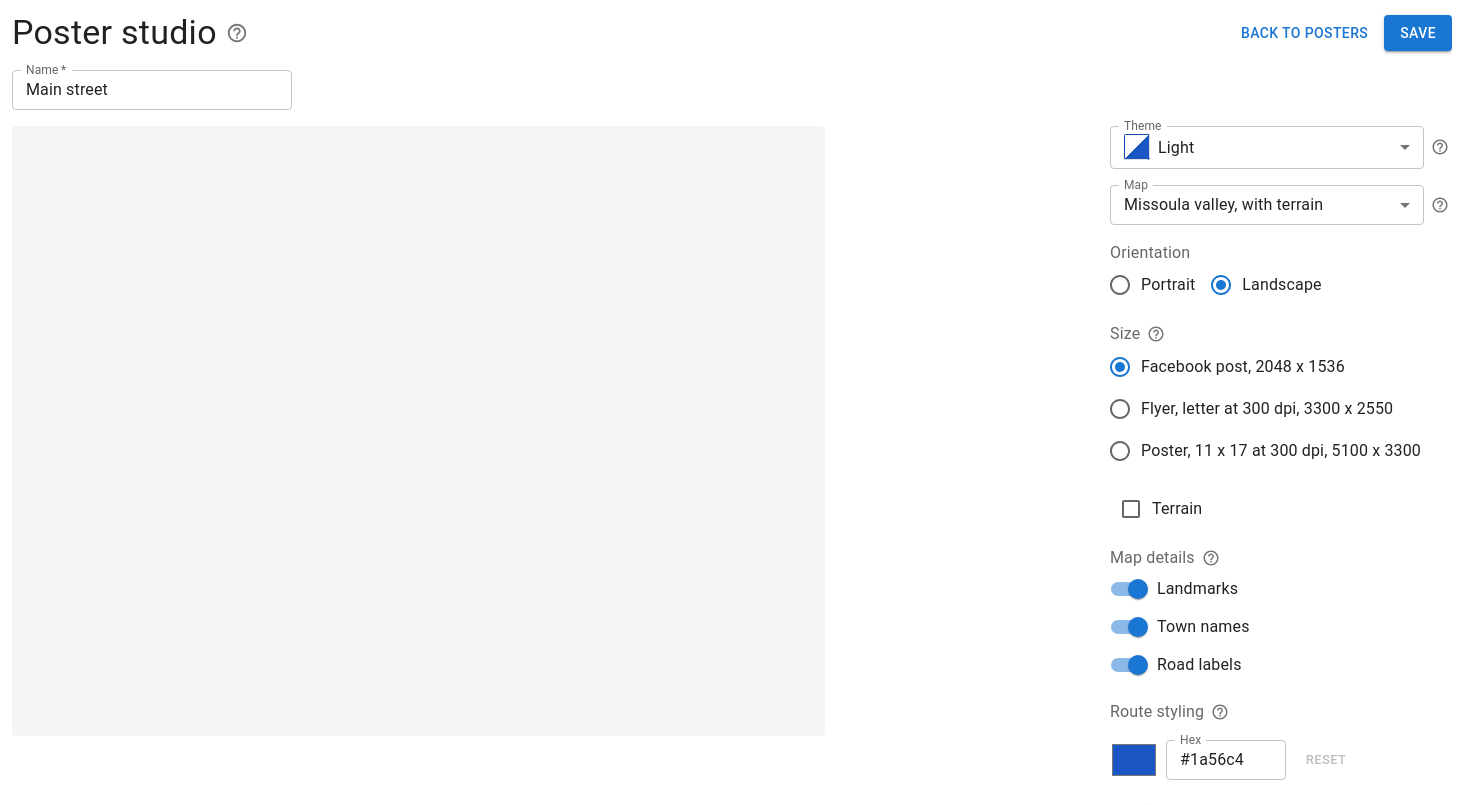
Test: PosterEditor: the Theme and Map selects › offers the MapLibre themes in order and the ready maps, defaulting to the light default and the event's map
Expected: the dropdown named "Map" reads "Missoula valley, with terrain", x1=1124 y1=196 x2=1323 y2=214
Step 1. Click the dropdown named "Theme" → (1159, 148), box x1=1124 y1=134 x2=1194 y2=160
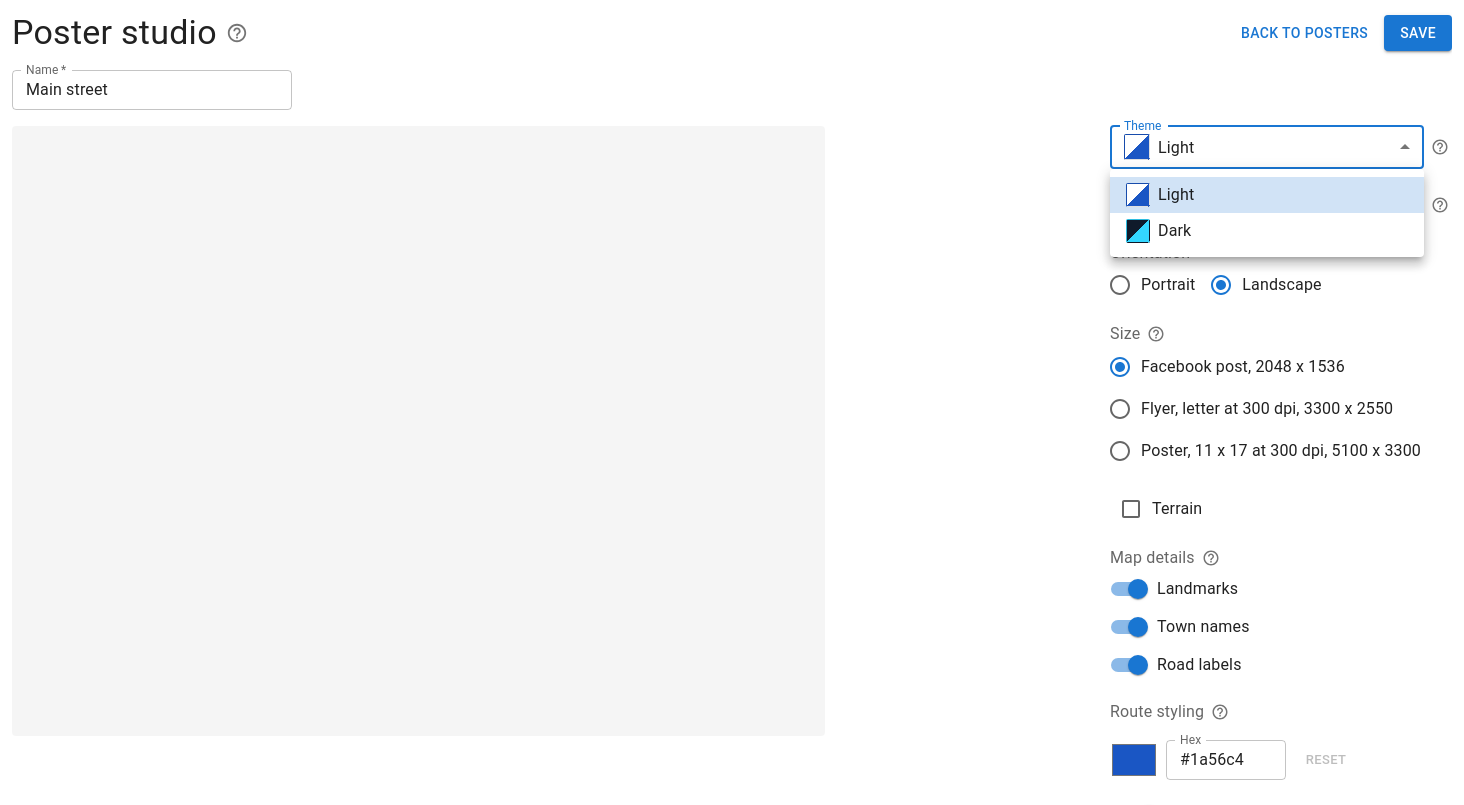
Now the options read "Light", "Dark", in this order, box x1=1110 y1=177 x2=1424 y2=213; x1=1126 y1=219 x2=1191 y2=243
Step 2. Press Escape
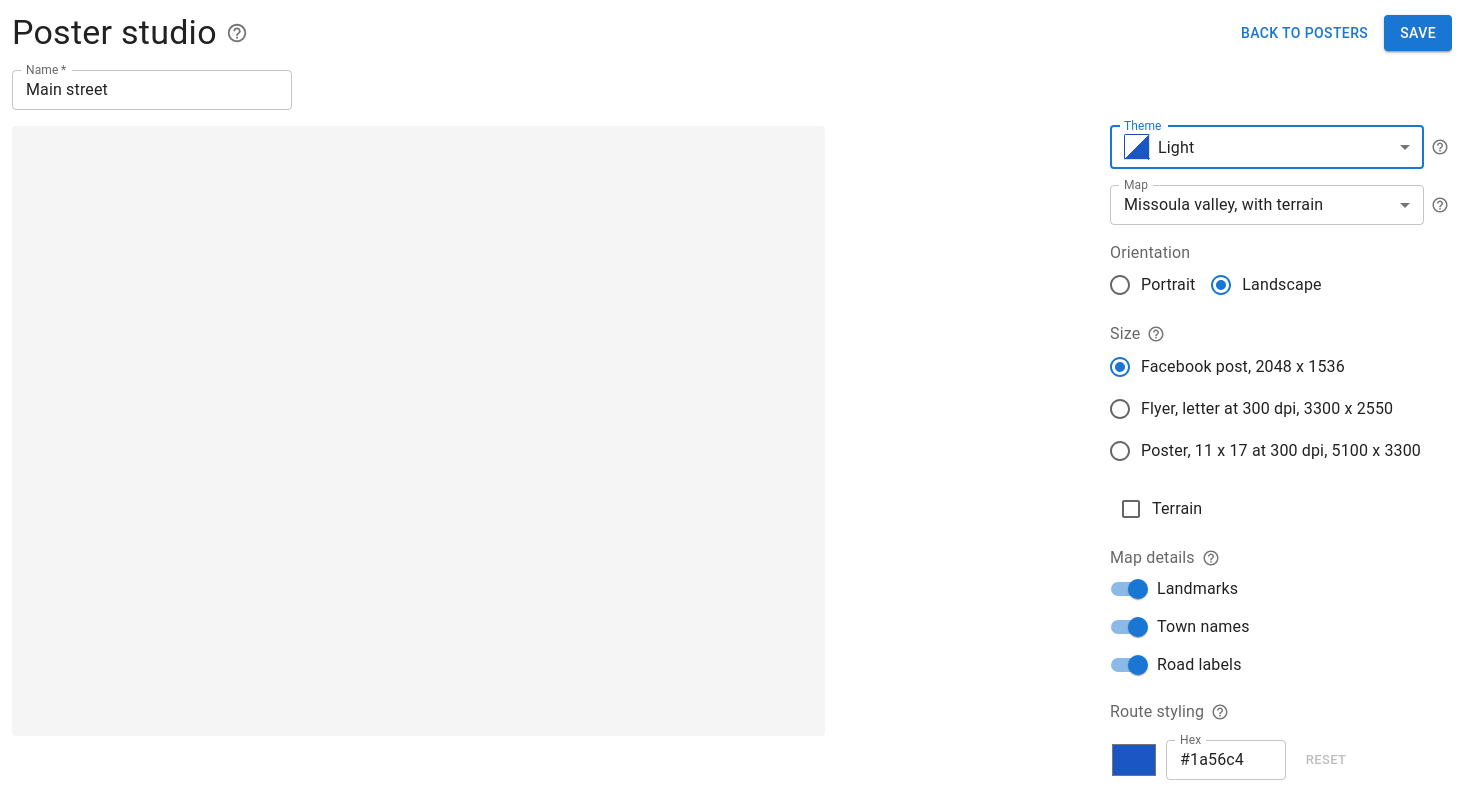
Step 3. Click the dropdown named "Map" → (1224, 205), box x1=1124 y1=196 x2=1323 y2=214
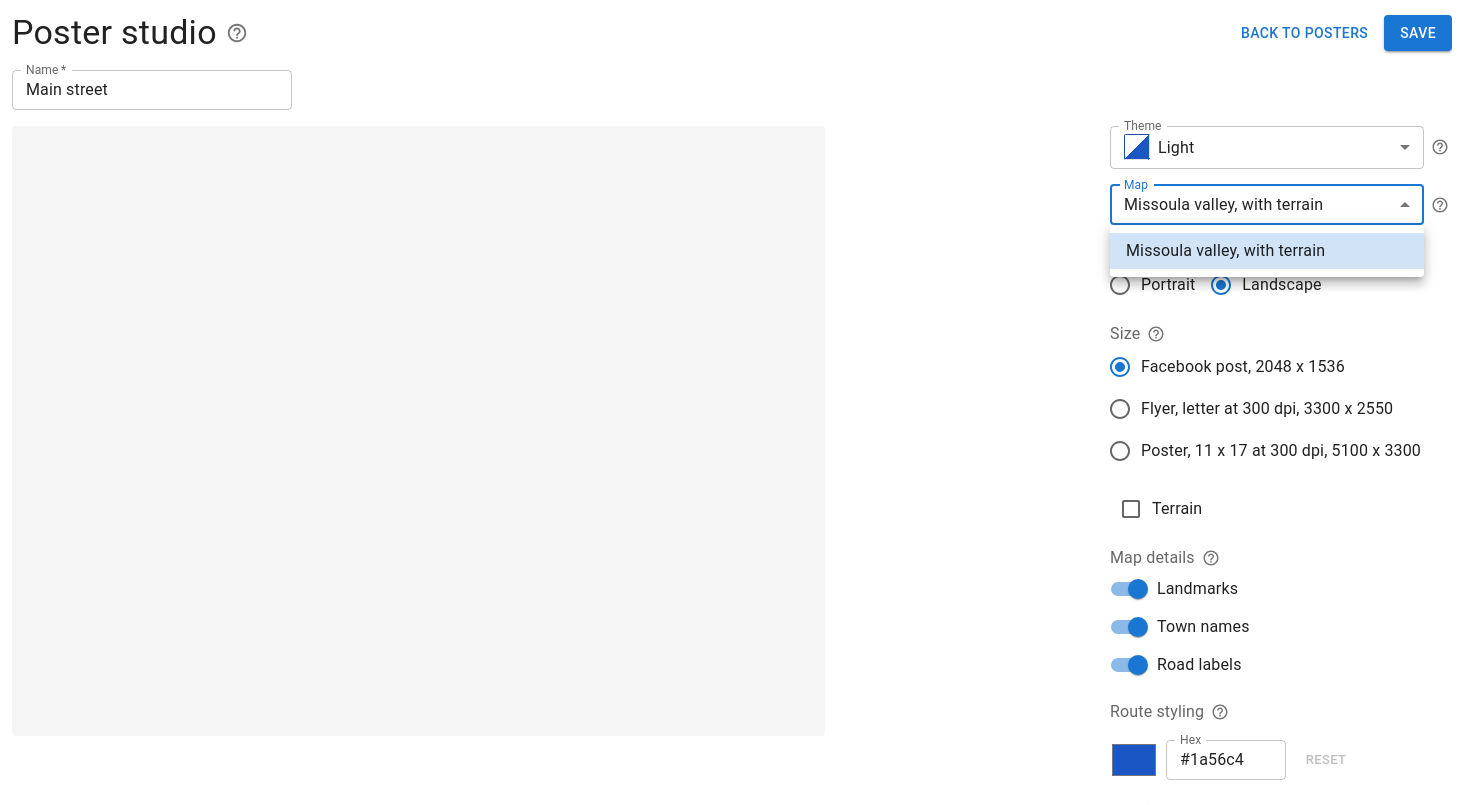
Now the options read "Missoula valley, with terrain", in this order, box x1=1110 y1=233 x2=1424 y2=269
